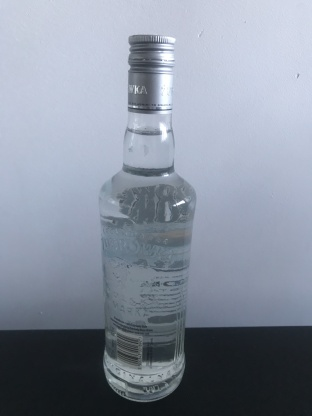nakretka: (126, 32, 177, 115)
